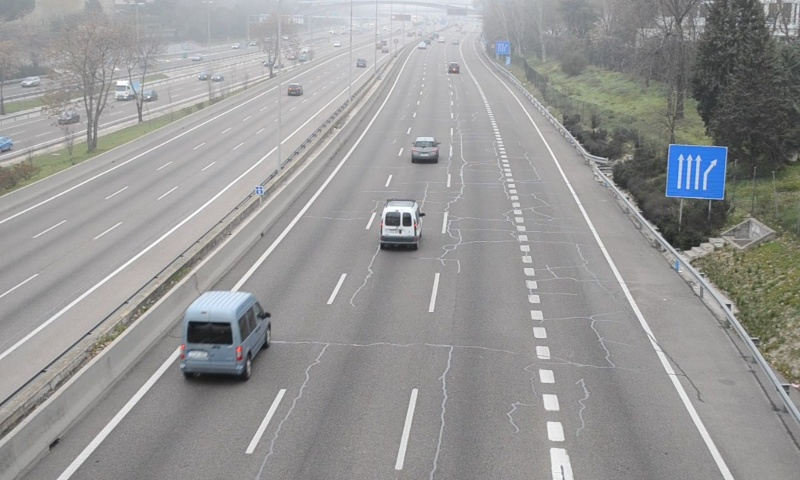car: (410, 136, 438, 162)
van: (180, 292, 269, 376), (380, 201, 421, 246)
